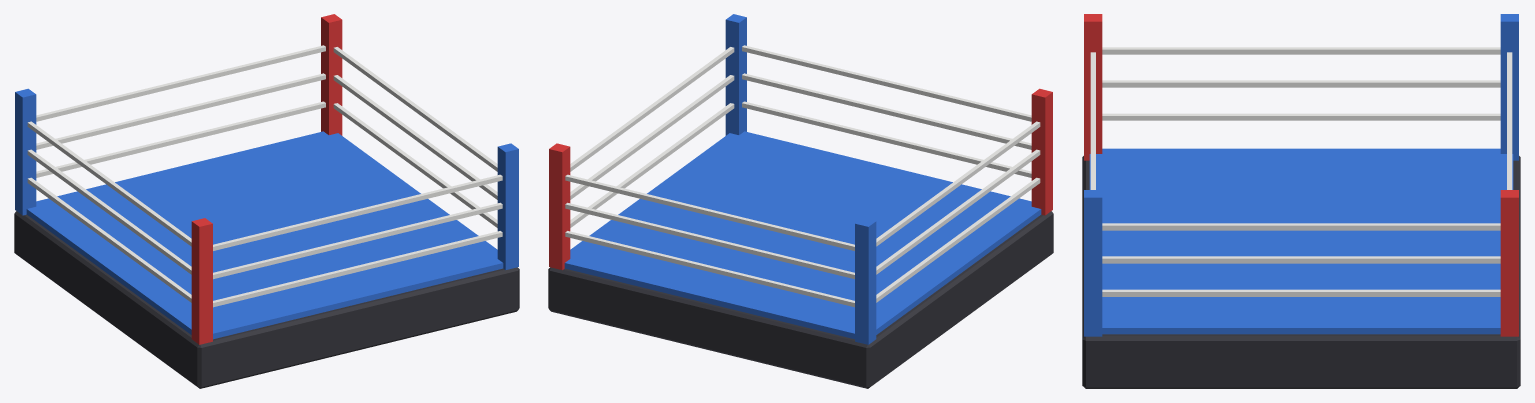
File: BoxingRing.fbx
The picture shows the model from 3 angles, left to right: view 1: azimuth 30°, elevation 25°; view 2: azimuth 150°, elevation 25°; view 3: azimuth 270°, elevation 25°; orthographic projection. The views are drawn at different scales.
Visible parts, largest first — view 1: BoxingRing; view 2: BoxingRing; view 3: BoxingRing.
Boxes of the visible parts, x1,y1,x2,y2 form: BoxingRing: (14, 14, 519, 388); BoxingRing: (548, 14, 1053, 388); BoxingRing: (1082, 14, 1520, 388).
Bounding box in the file's own units: 12 × 5.8 × 12.
Materials: 1 (1 with a texture image).
